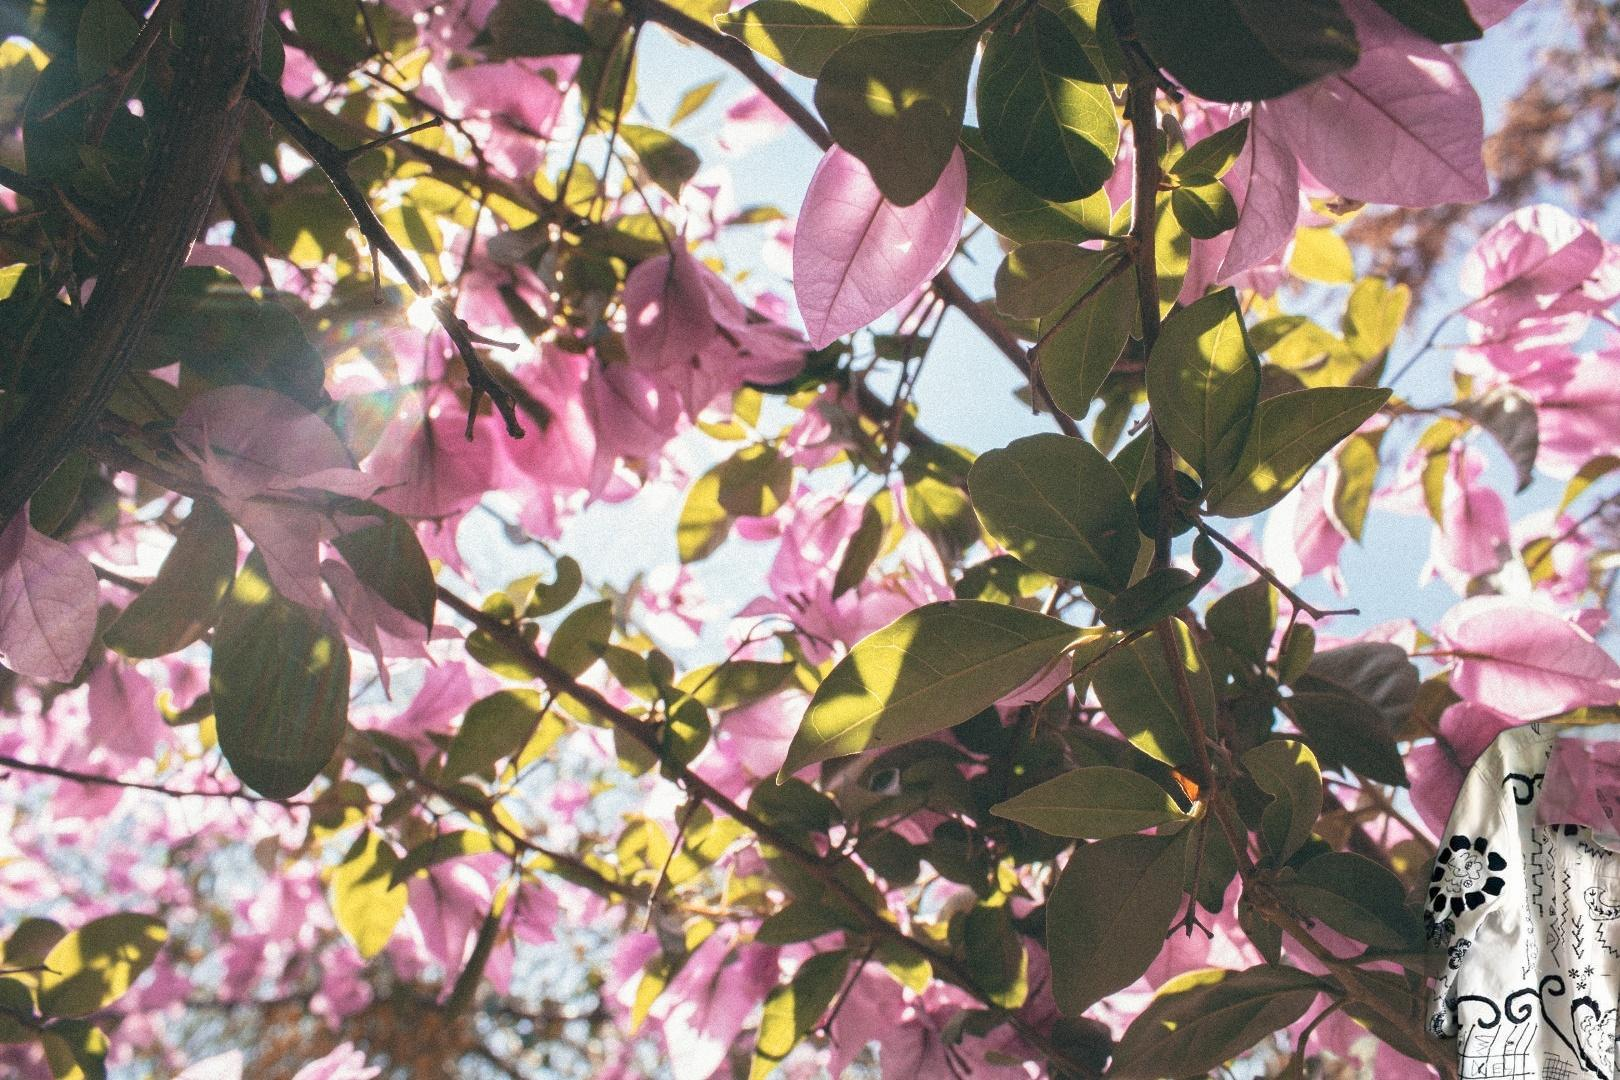clothes: (1424, 723, 1620, 1080)
